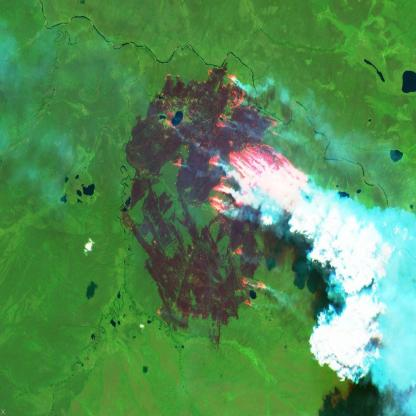fire: (157, 55, 314, 323)
